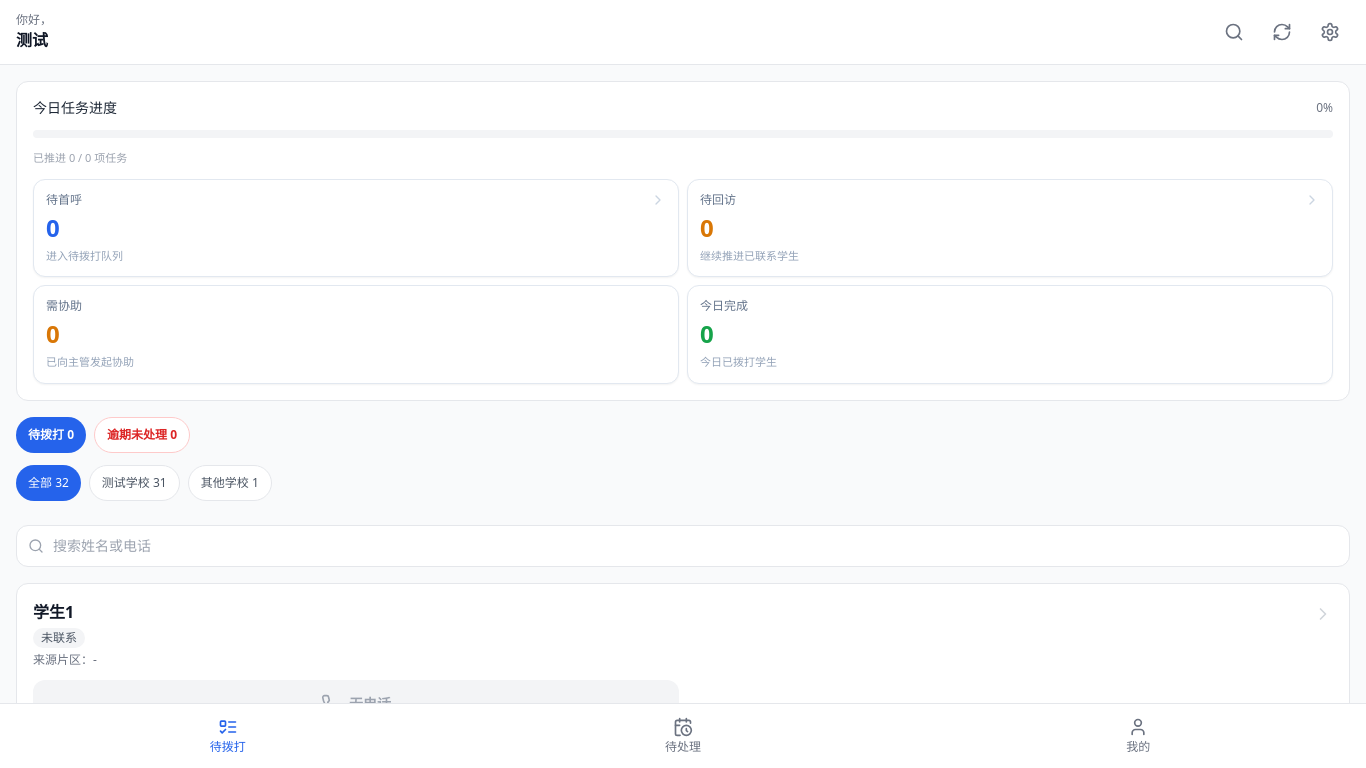
Test case: loads the next page while a school is selected
Click the button "测试学校 31": (134, 482) [89,464,180,500]
(page scrolled)
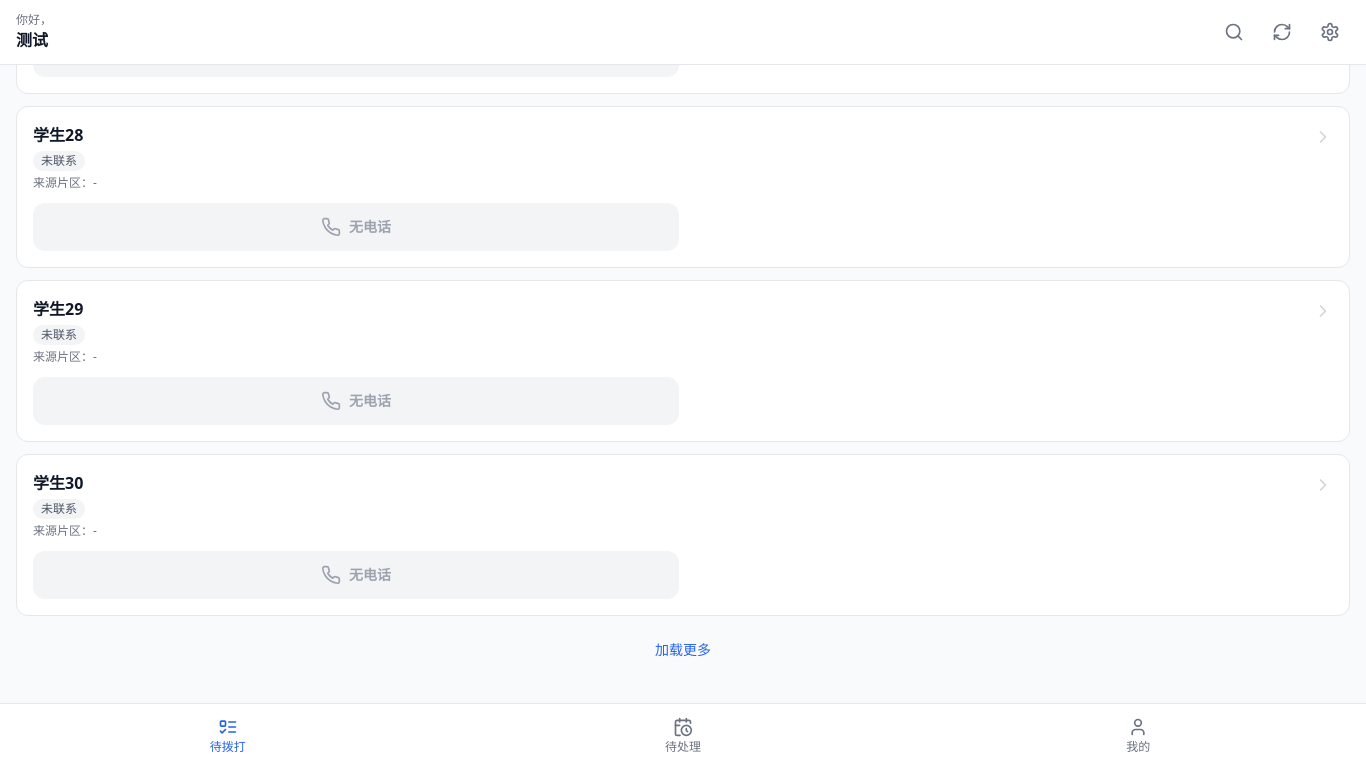
Click the button "加载更多": (683, 650) [16,628,1350,672]
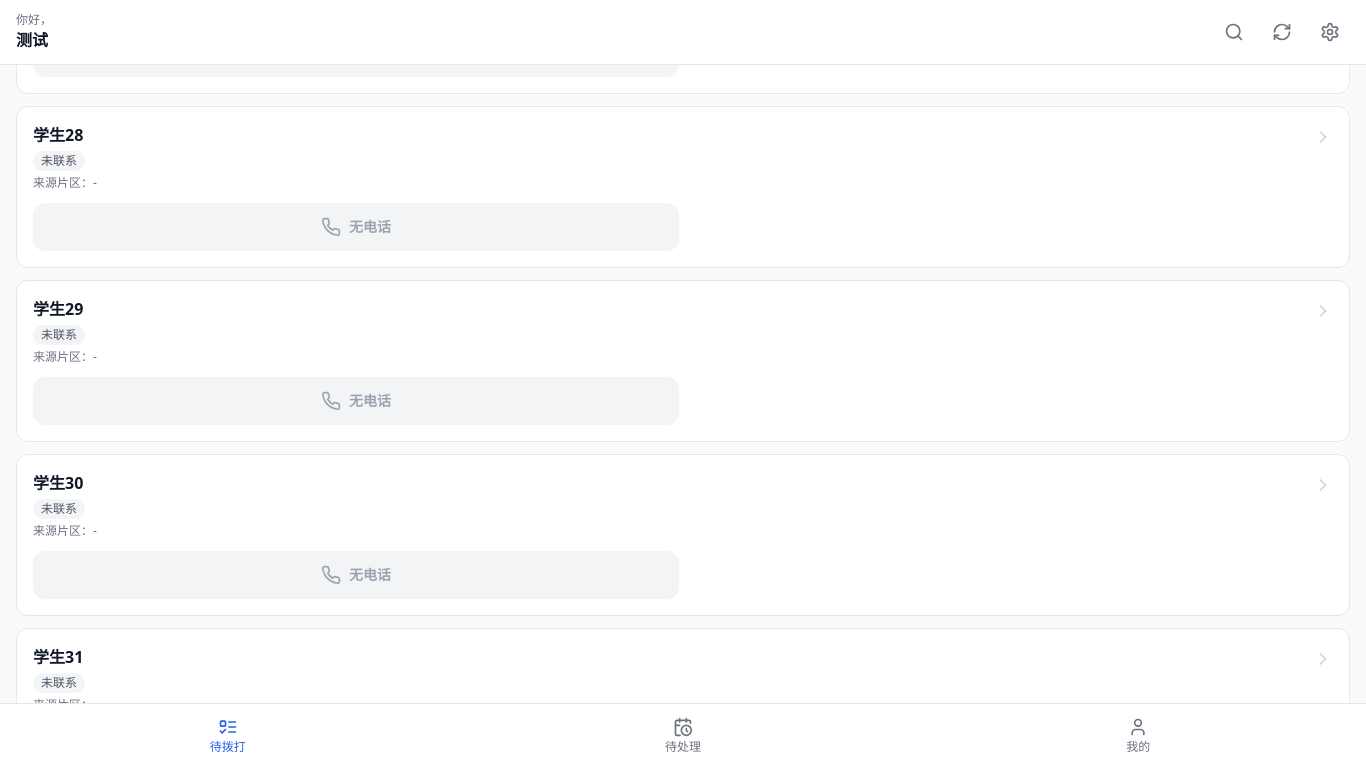
Check: the text "学生31" is shown, box [33,644,83,668]
Check: the button "加载更多" is gone
